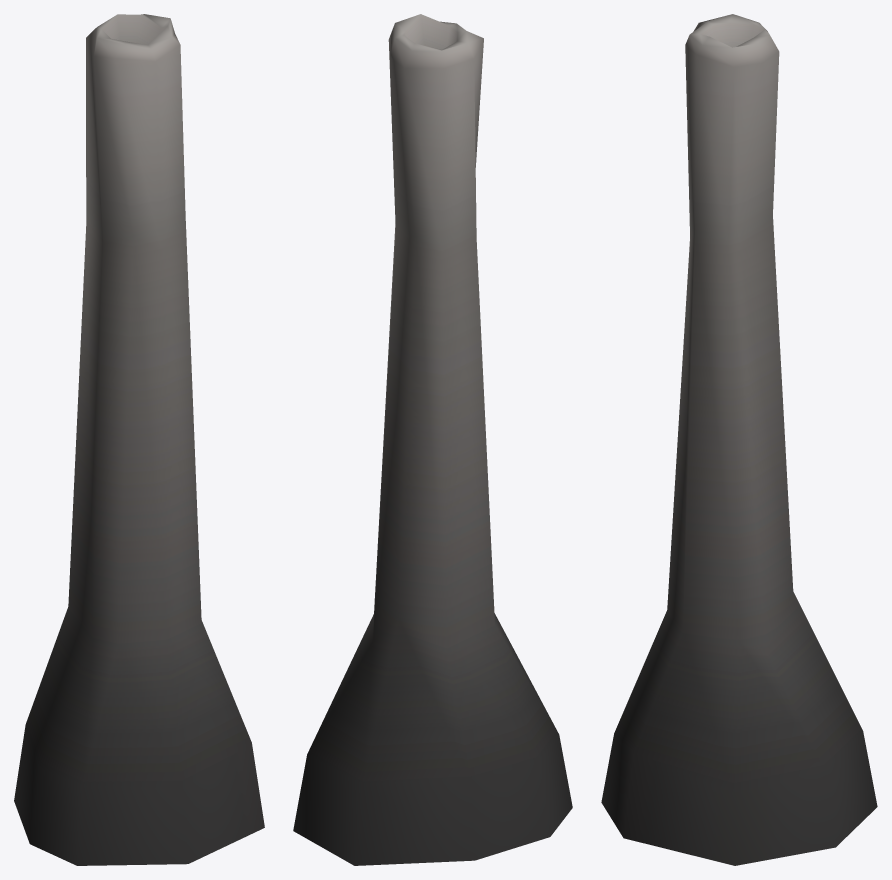
Rendered from m_Vent01_A.fbx.
The picture shows the model from 3 angles, left to right: view 1: azimuth 30°, elevation 25°; view 2: azimuth 150°, elevation 25°; view 3: azimuth 270°, elevation 25°; orthographic projection.
Visible parts, largest first — view 1: m_Vent01_A; view 2: m_Vent01_A; view 3: m_Vent01_A.
Part boxes in pixels (x1,y1,x2,y2): m_Vent01_A: (14,14,264,865); m_Vent01_A: (293,14,572,865); m_Vent01_A: (601,14,877,865).
Bounding box in the file's own units: 84.17 × 280 × 89.51.
